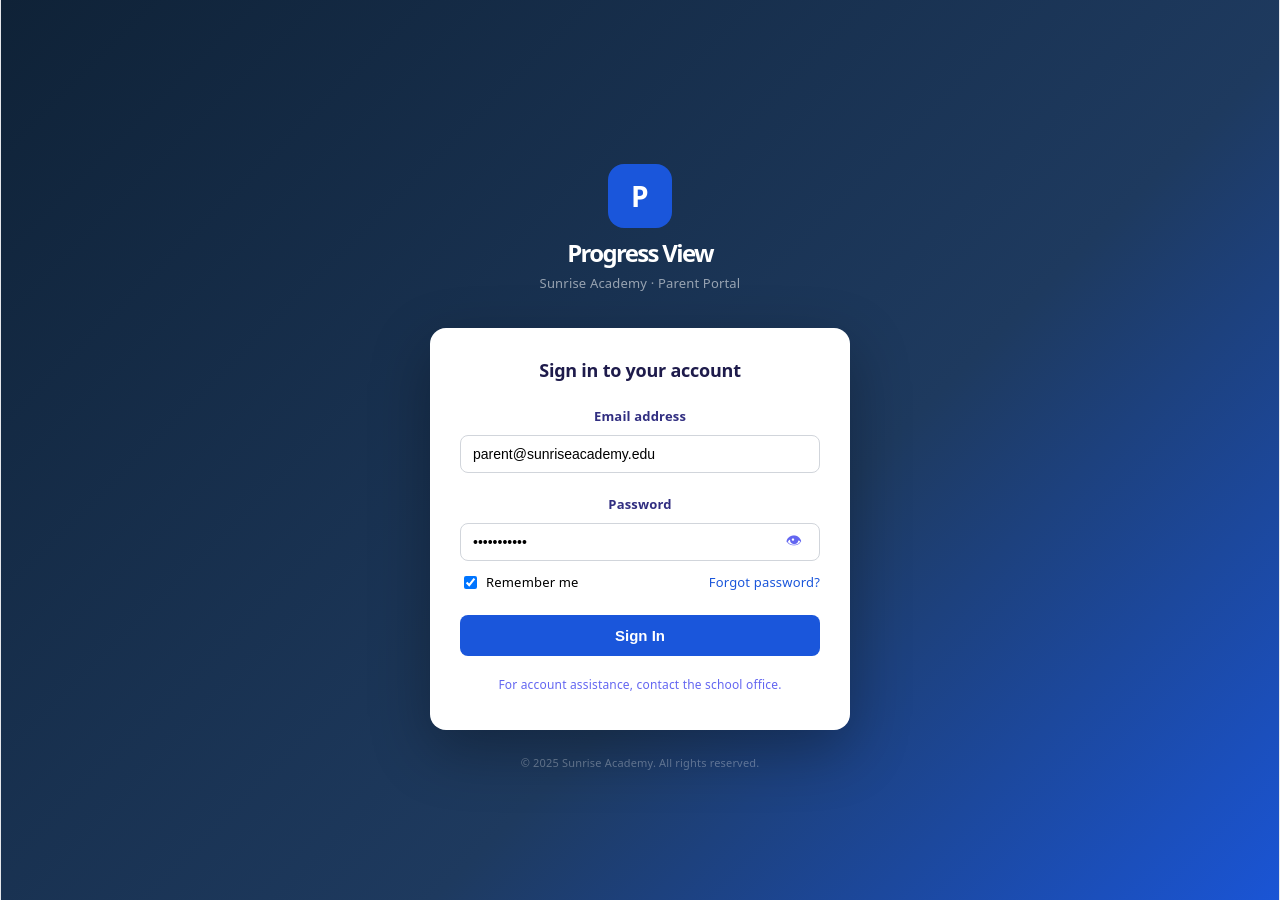
ProgressView Unique Tests (120+ Cases) › 1. Login Screen Basic Elements › 1.15 Should revert password element to hidden format when toggle clicked again
This screenshot has width=1280, height=900.
Click the button "👁": (794, 542) 780,528 -> 808,557
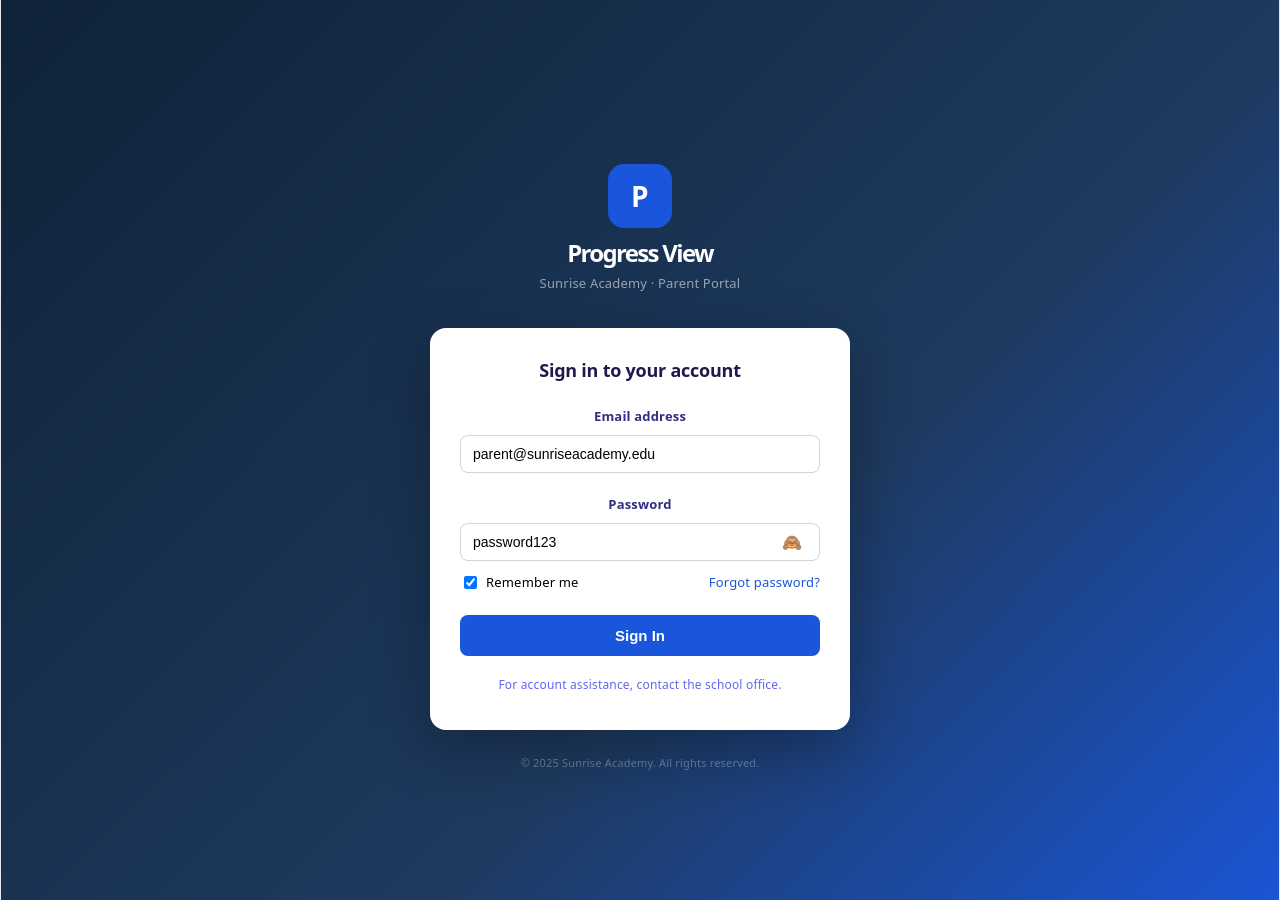
Click the button "🙈": (792, 542) 776,532 -> 808,553
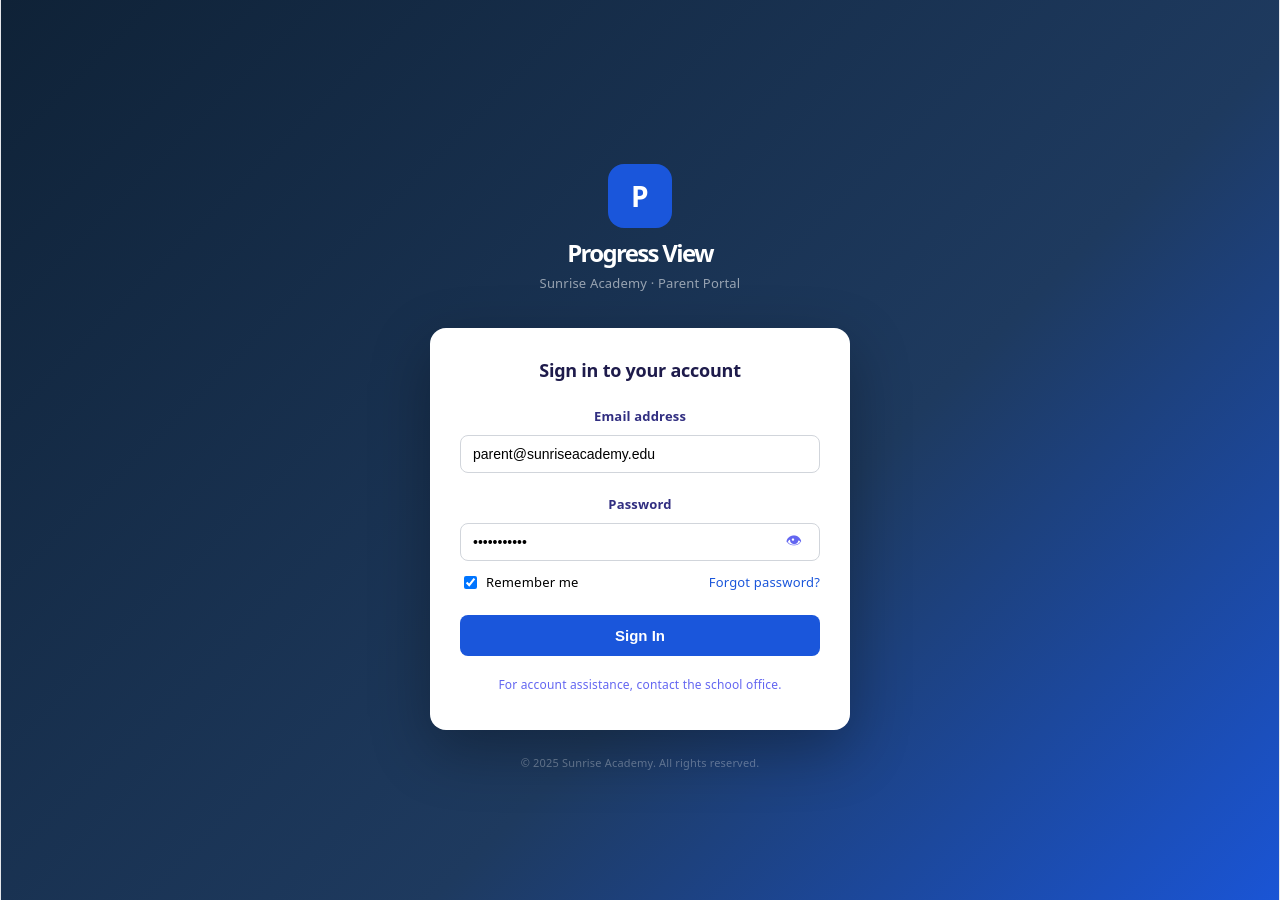
Expected: the password field with placeholder "••••••••" hides its text, 460,523 -> 820,561
